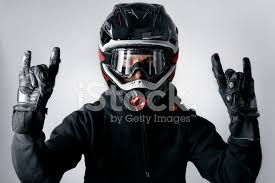helmet: (91, 1, 183, 105)
